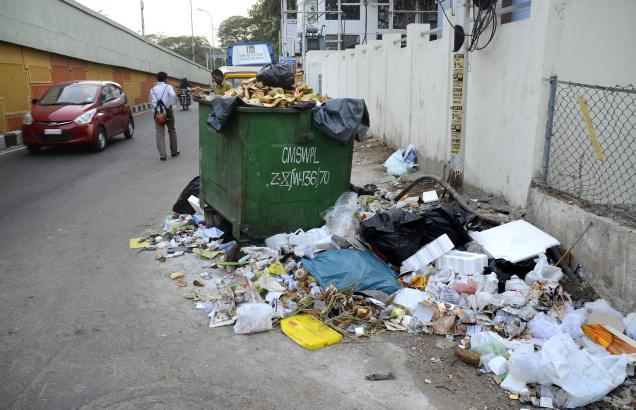Container: (196, 97, 355, 232)
Garbage: (243, 247, 552, 369), (443, 228, 636, 410), (358, 186, 543, 360), (203, 236, 405, 359), (227, 60, 317, 109), (158, 199, 212, 268), (321, 93, 372, 147), (177, 173, 202, 231), (386, 144, 418, 182)
